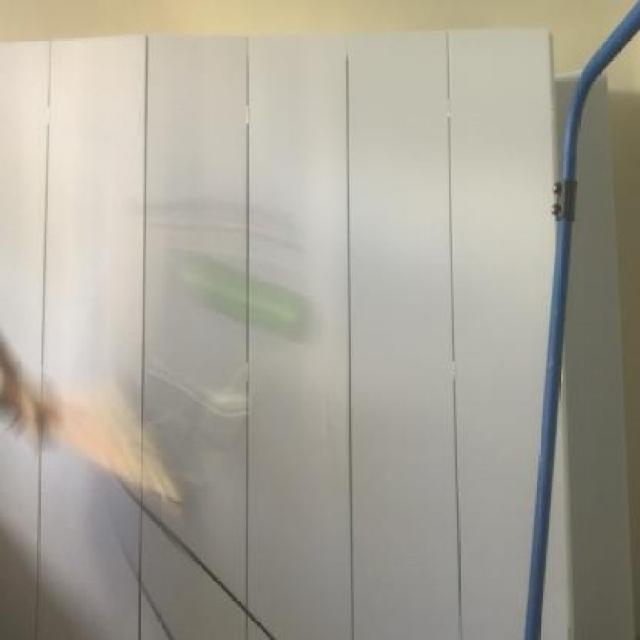baseball: (173, 228, 322, 352)
